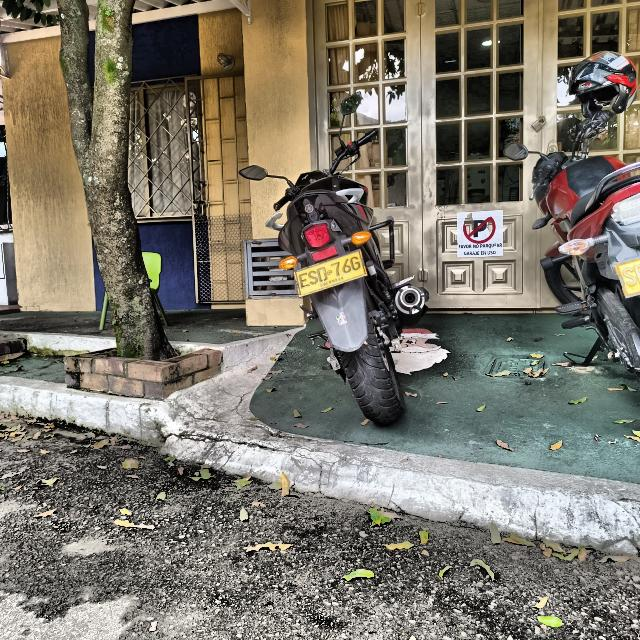plate: (295, 250, 366, 296)
